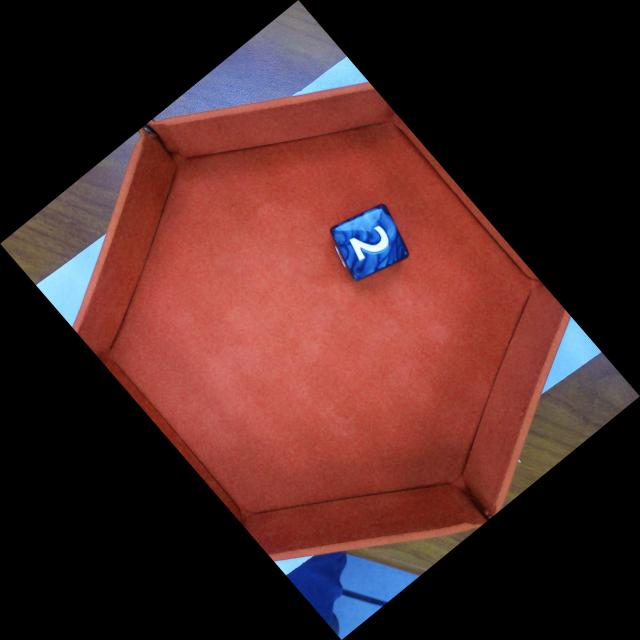dice: (329, 204, 410, 283)
